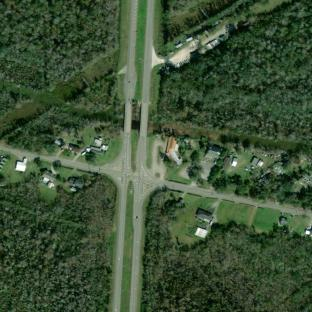Floresta: (156, 0, 312, 143), (141, 190, 312, 312), (0, 0, 130, 154), (0, 175, 116, 312), (212, 167, 312, 209)
